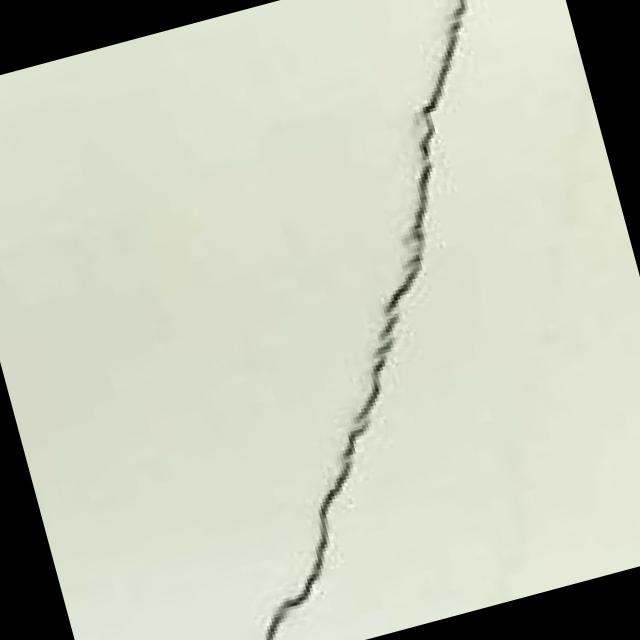crack: (78, 0, 625, 640)
